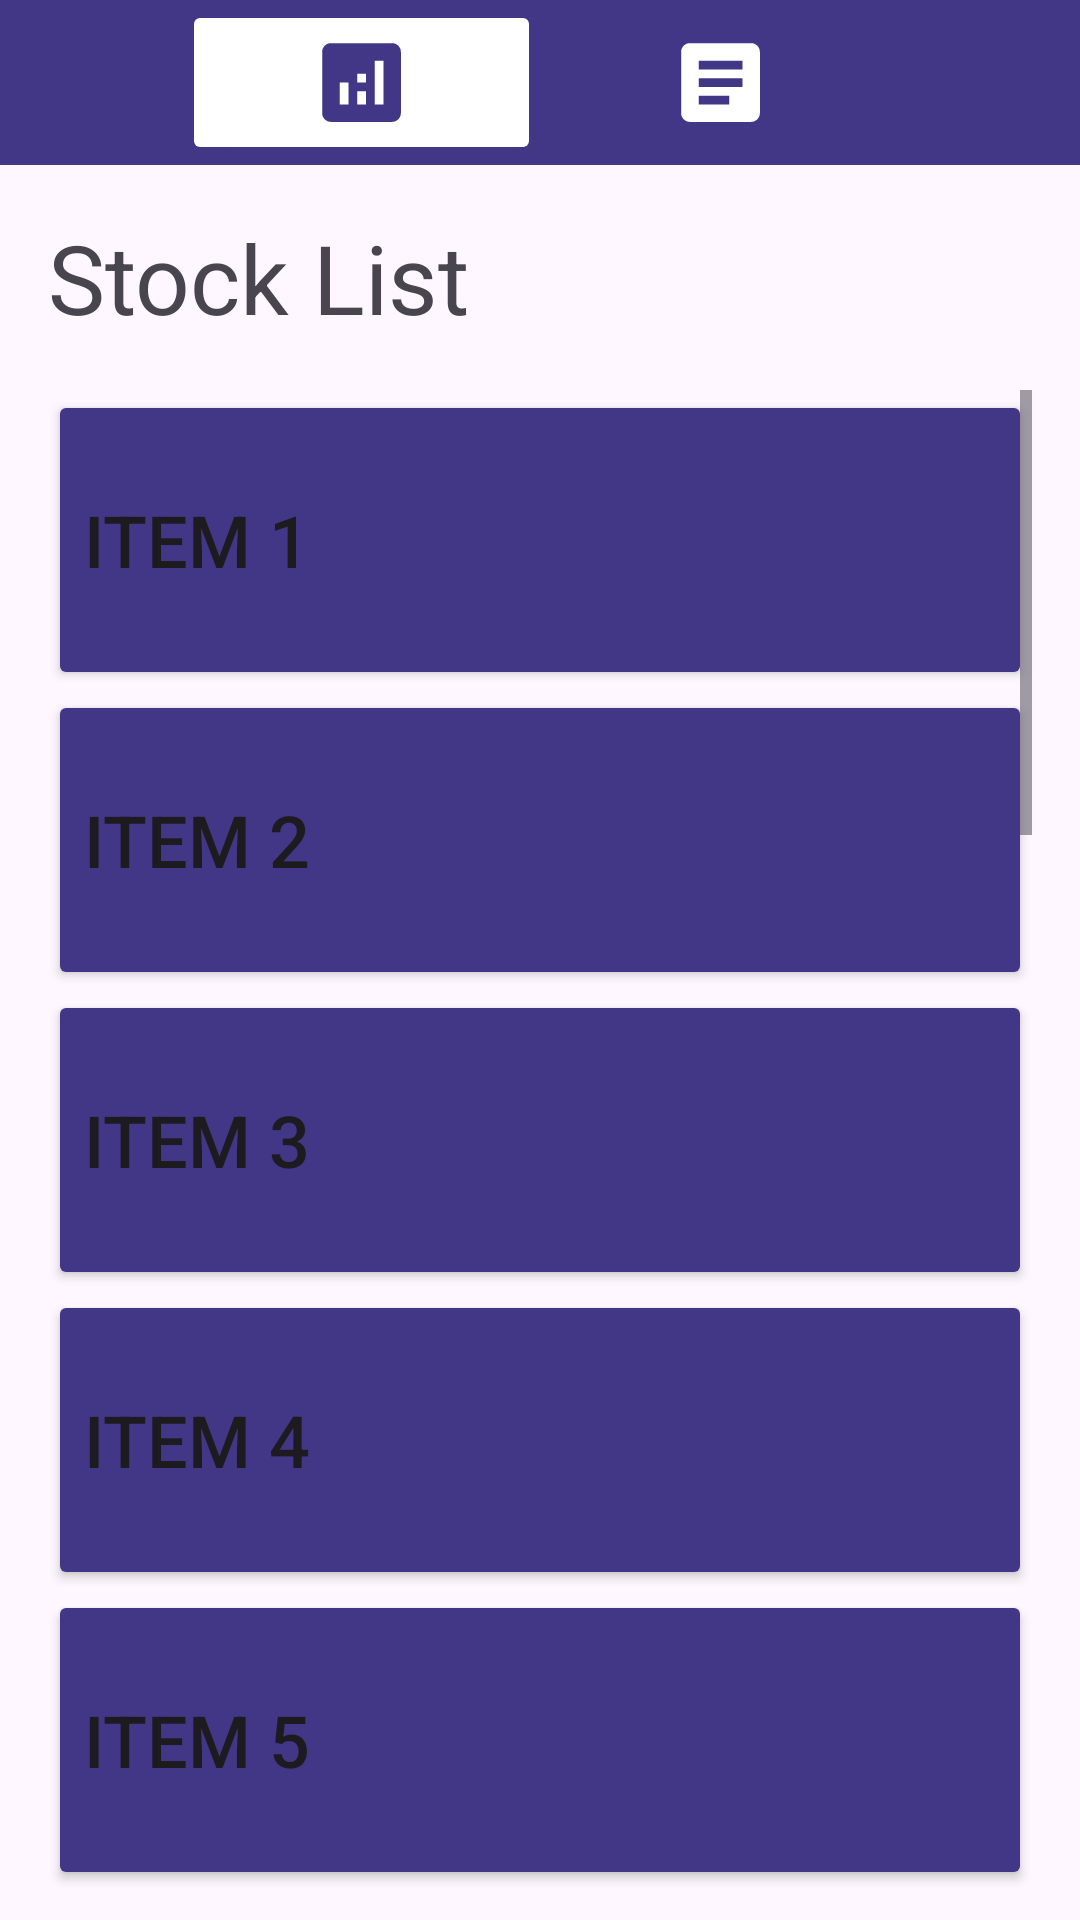

Named icons in this screenshot (1080px×1920px) and their bounding boxes, (x1, y1, x2, y2):
report: (681, 43, 760, 122)
